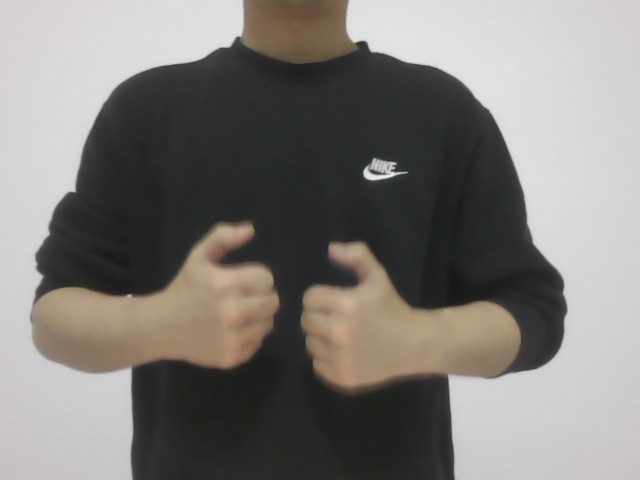marry/wife: (143, 205, 419, 400)
